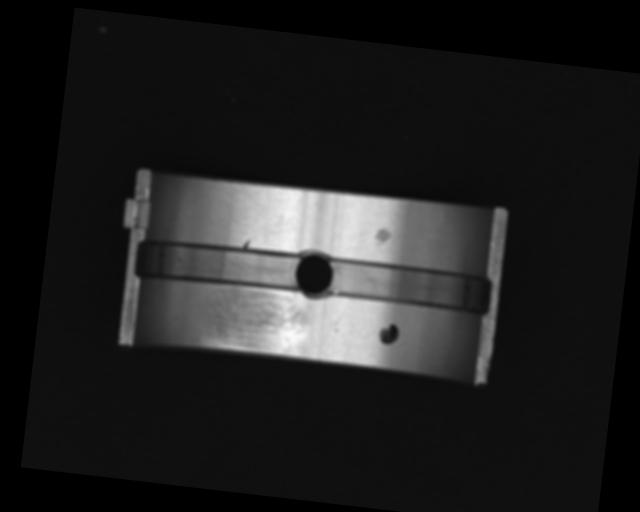blot: (377, 322, 400, 348)
bruise: (372, 225, 393, 247), (242, 237, 251, 250)
gap: (133, 233, 305, 296), (325, 256, 492, 317)
hole: (292, 248, 338, 301)
scratch: (202, 284, 314, 357)
